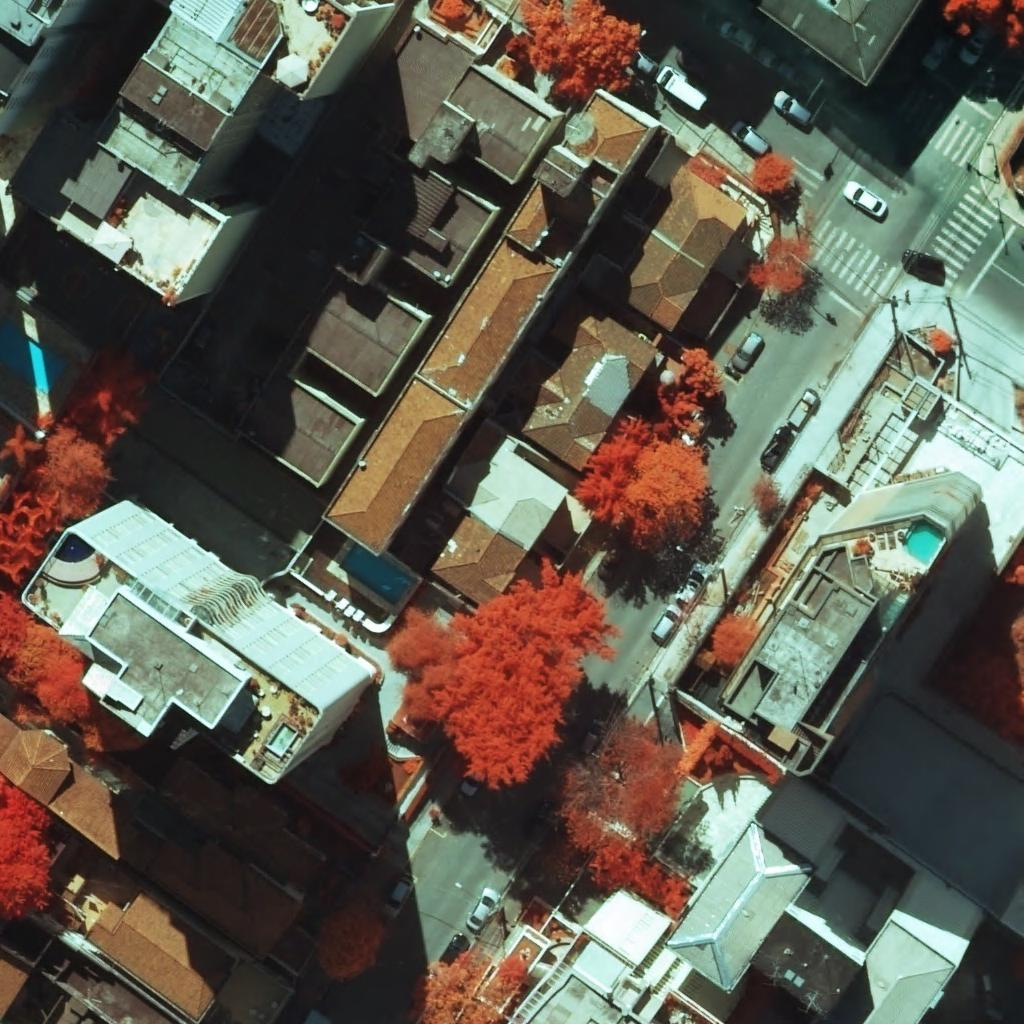pool: (339, 544, 412, 605), (906, 521, 943, 565)
